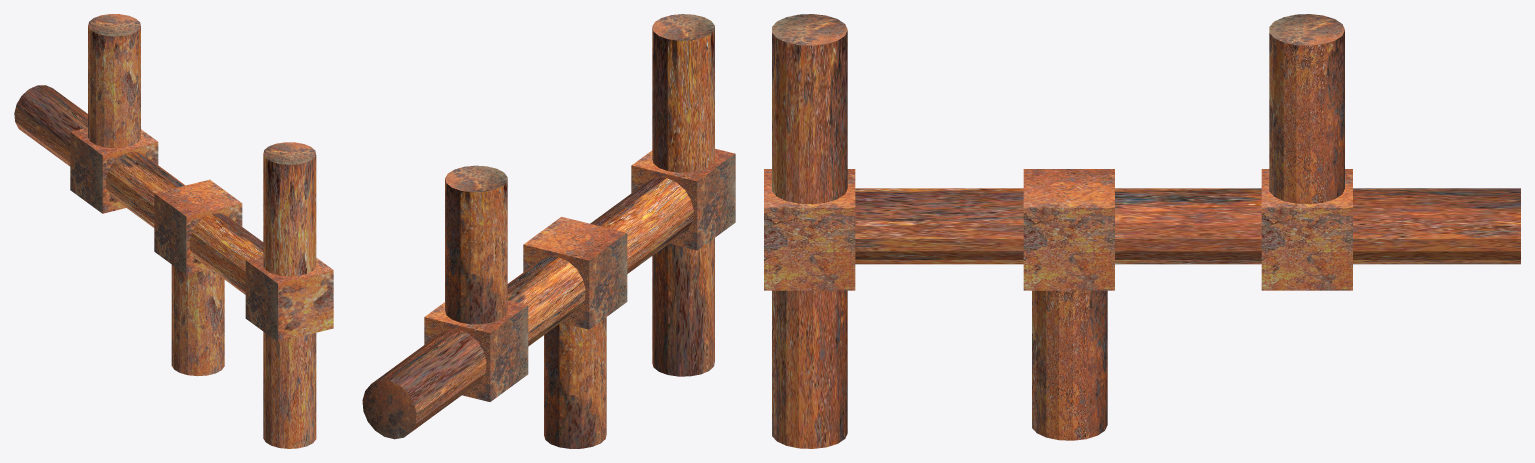
File: Pipe.fbx
3 views of the same model, side by side, from view 1: azimuth 30°, elevation 25°; view 2: azimuth 150°, elevation 25°; view 3: azimuth 270°, elevation 25° (orthographic). The views are drawn at different scales.
Visible parts, largest first — view 1: Cube; view 2: Cube; view 3: Cube.
Part boxes in pixels (bbox=[...]): Cube: bbox=[14, 14, 333, 448]; Cube: bbox=[362, 14, 735, 448]; Cube: bbox=[764, 14, 1520, 448].
Size of the model in its own units: 200 by 973 by 1656.
